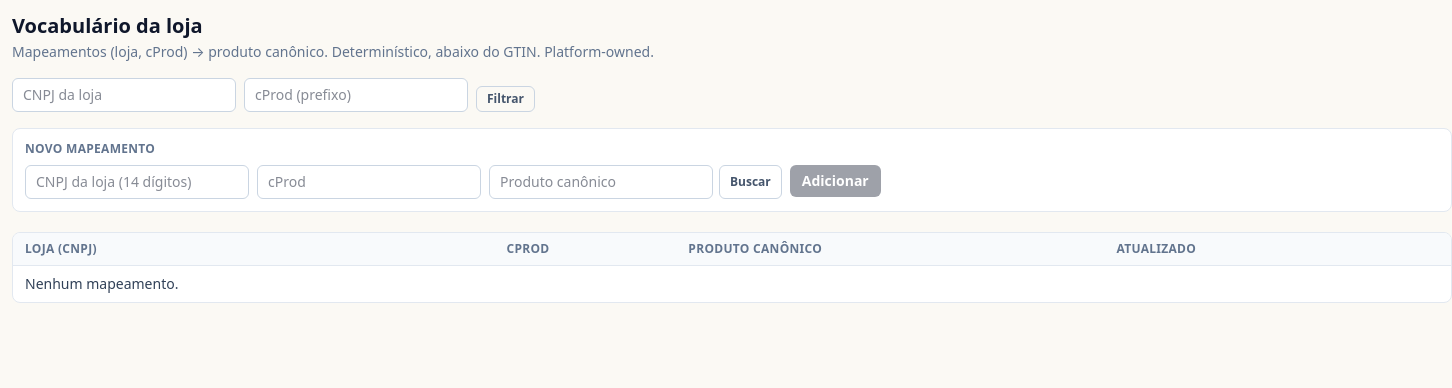
it: AdminStoreCodesPage › shows the backend message when a mapping conflicts
expect the text "Novo mapeamento" is shown: met, box [25,140,155,157]
Type "00371046000117" into the field labelled "CNPJ da loja".
click(137, 182); type("00371046000117")  # box [25,165,249,199]
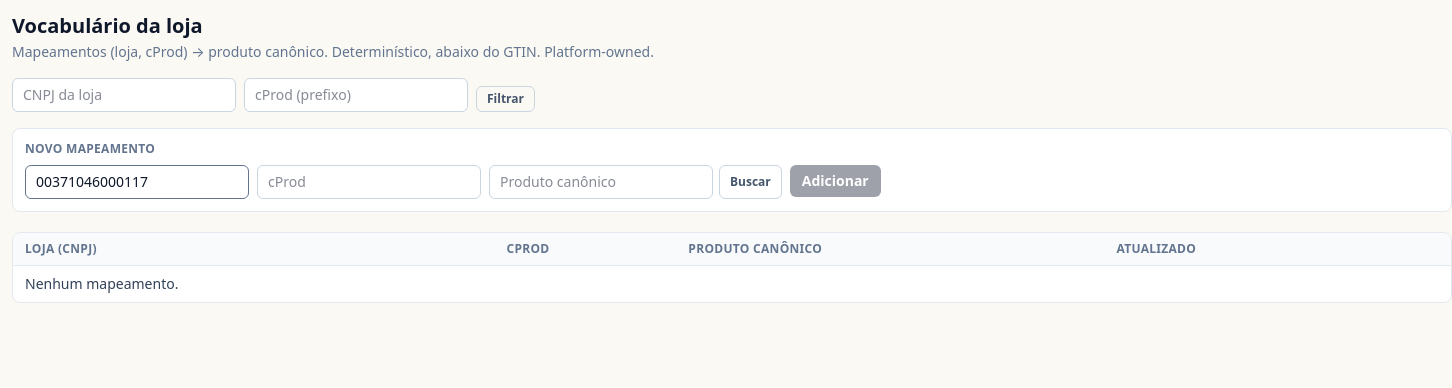
Type "ABC123" into the field labelled "cProd".
click(369, 182); type("ABC123")  # box [257,165,481,199]
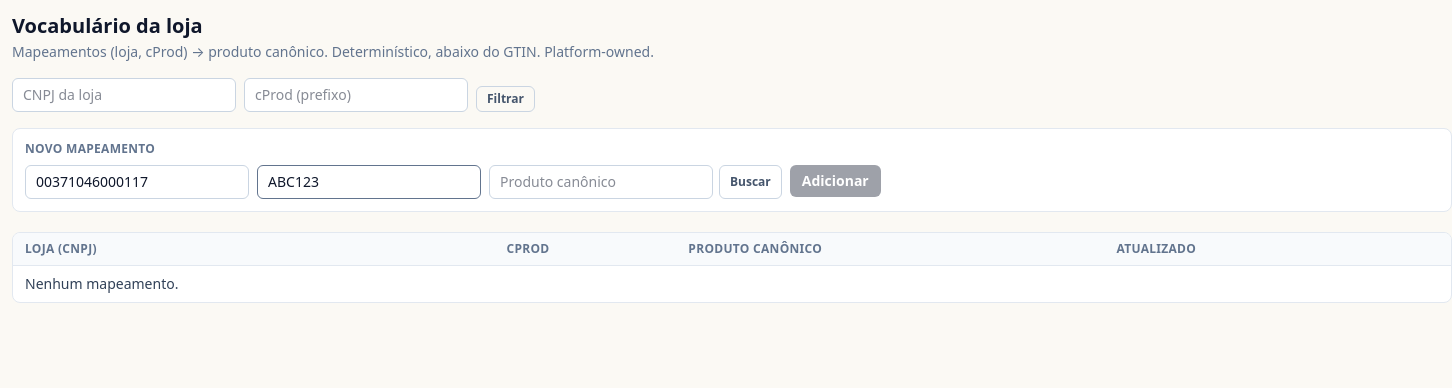
Type "x" into the field labelled "Produto canônico".
click(601, 182); type("x")  # box [489,165,713,199]
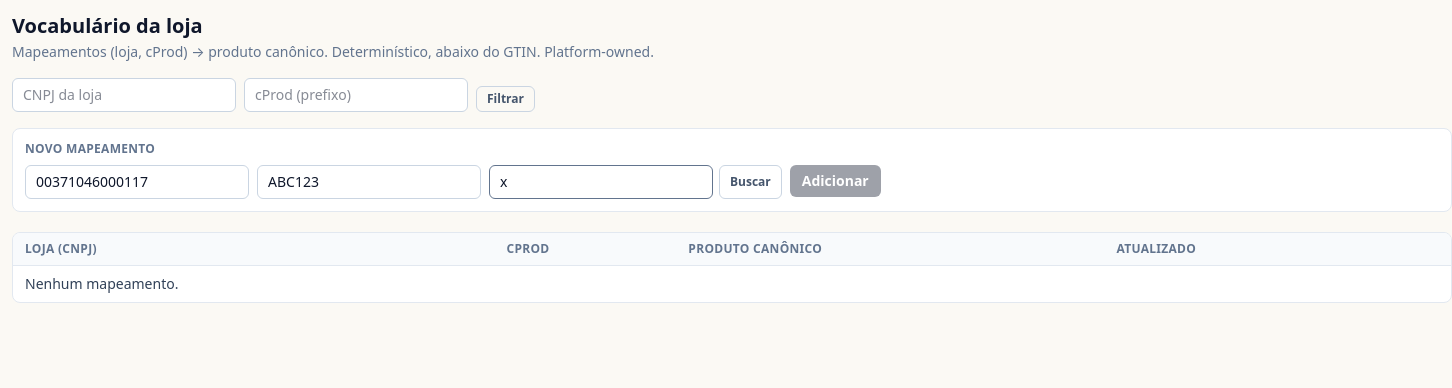
Click the button "Buscar".
click(750, 182)  # box [719,165,782,199]
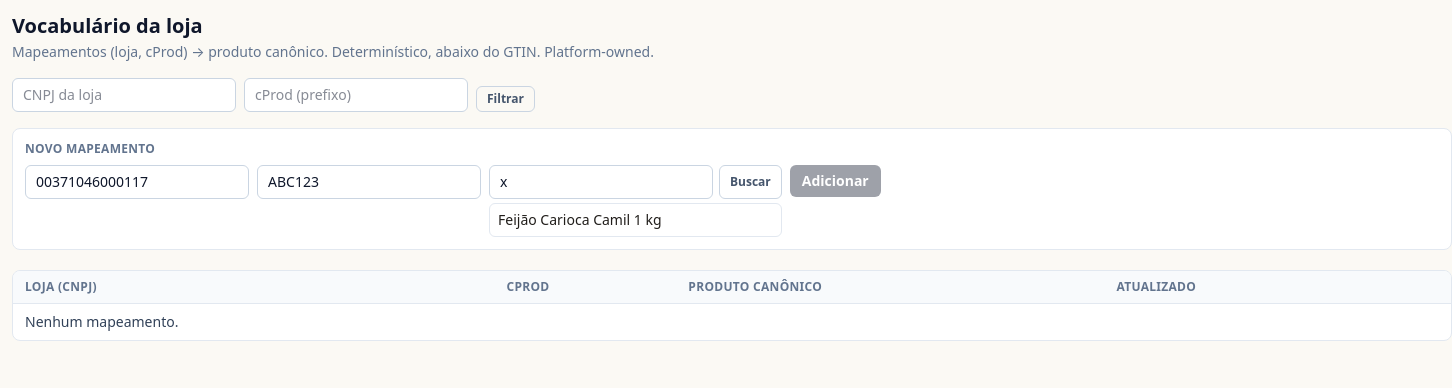
Click the button "Feijão Carioca Camil 1 kg".
click(635, 220)  # box [490,204,781,236]
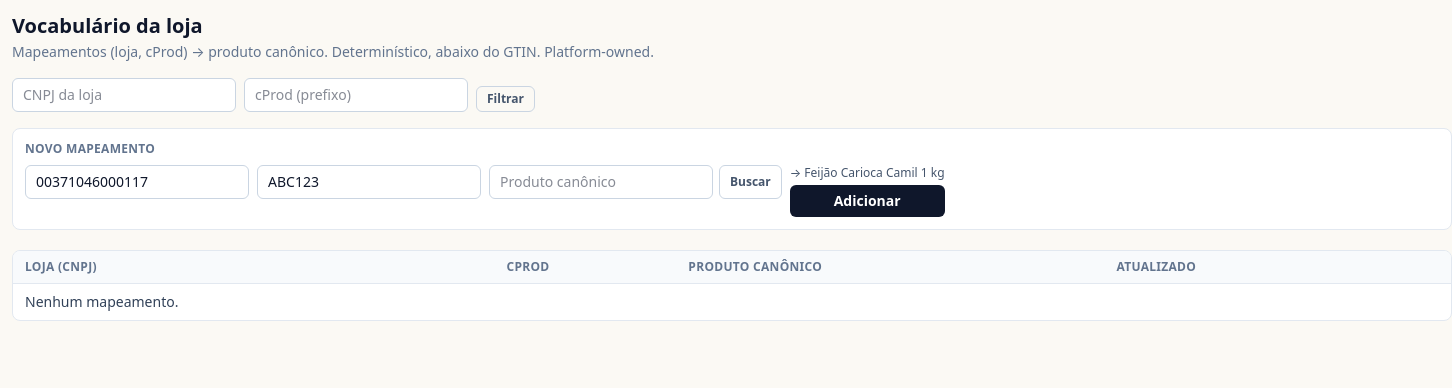
Click the button "Adicionar".
click(867, 201)  # box [790,185,945,217]
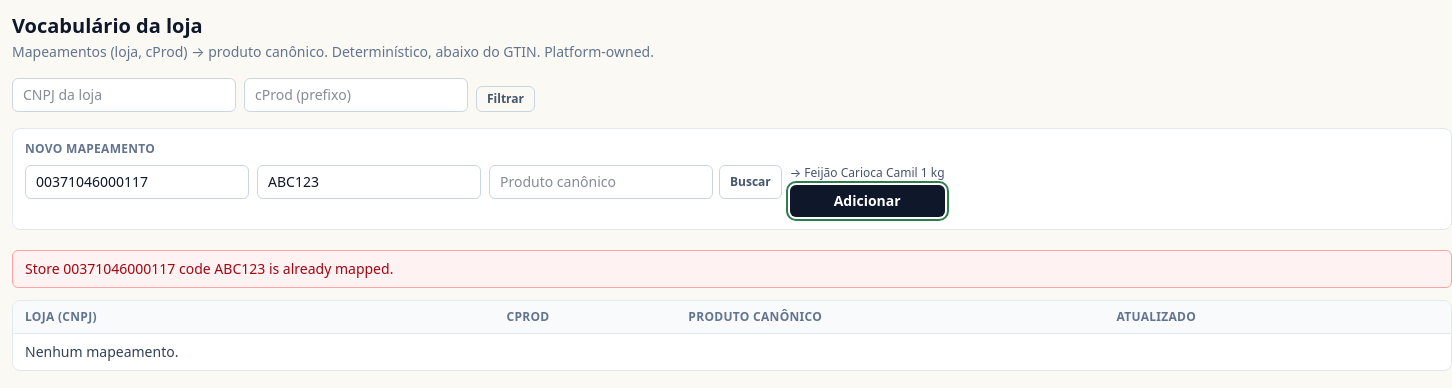
expect the text "Store 00371046000117 code ABC123 is already mapped." is shown: met, box [25,259,393,278]
